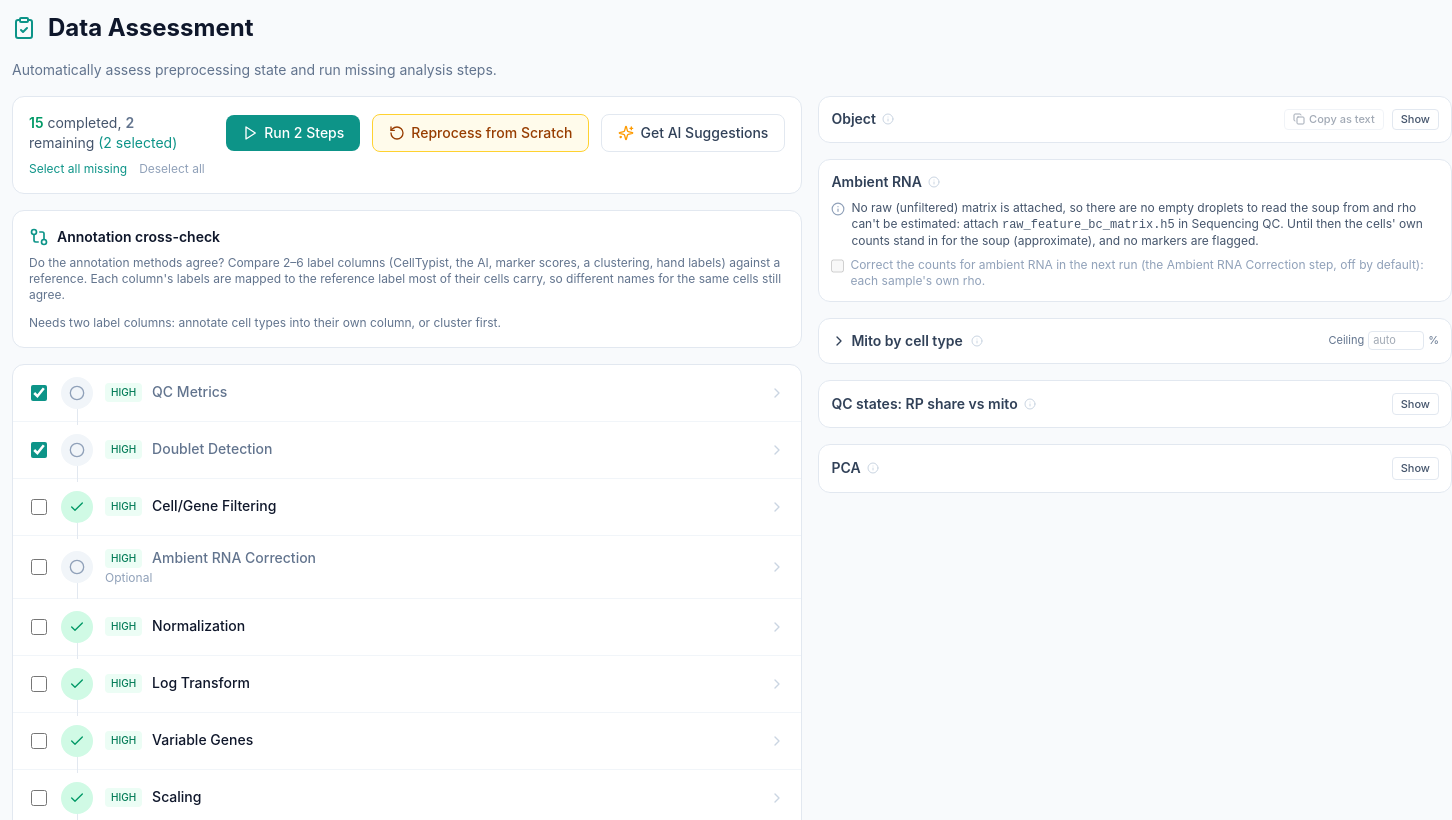
Test: DataAssessmentPanel run progress: watchdog, Cancel, outcome › keeps the step count after the last step: step_done carries no total
The image size is (1452, 820).
Click the button "Run 2 Steps" at (293, 133), box [226,115,360,151]
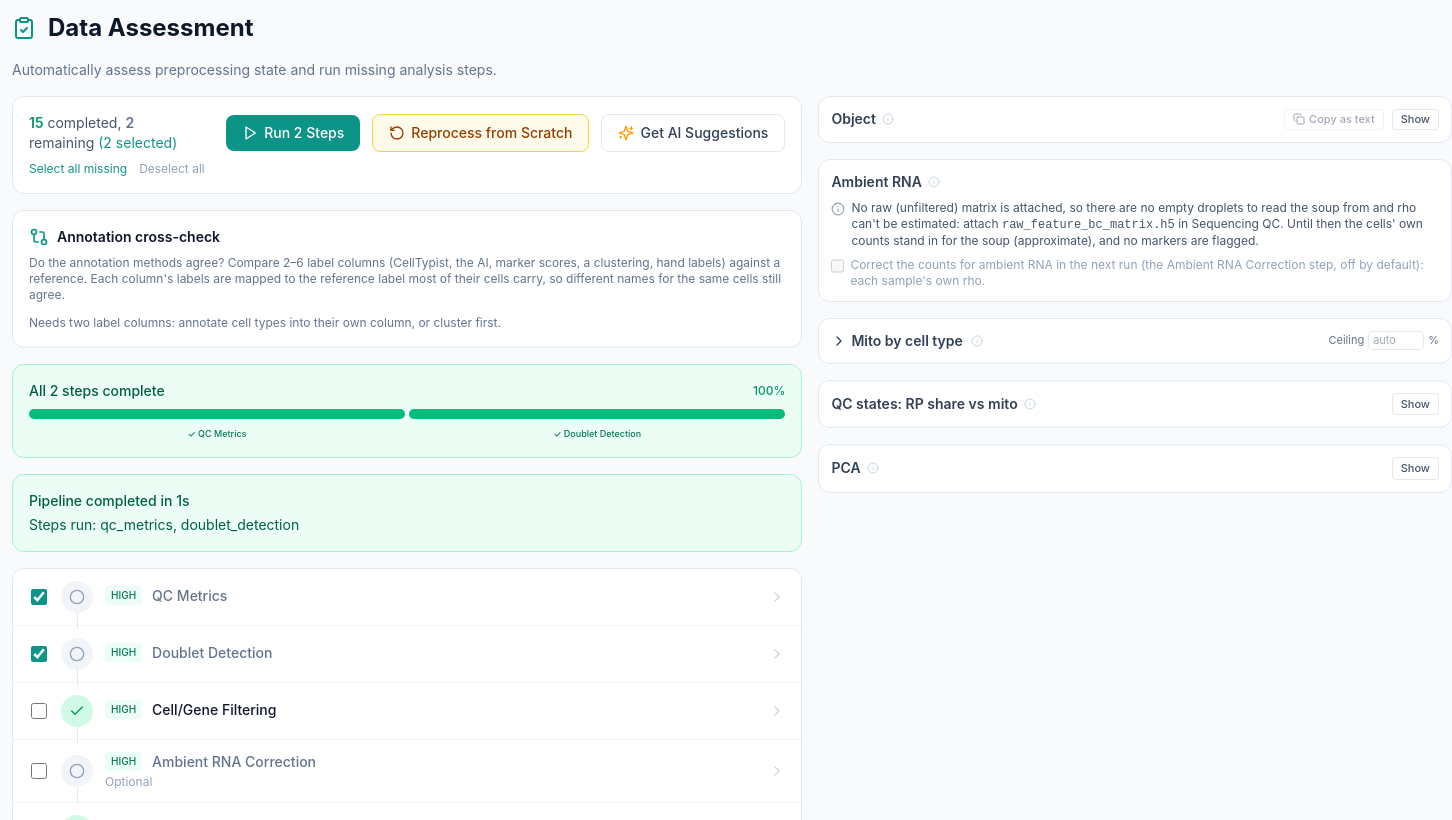
Expected: the text "All 2 steps complete" is shown, [29,381,165,401]
